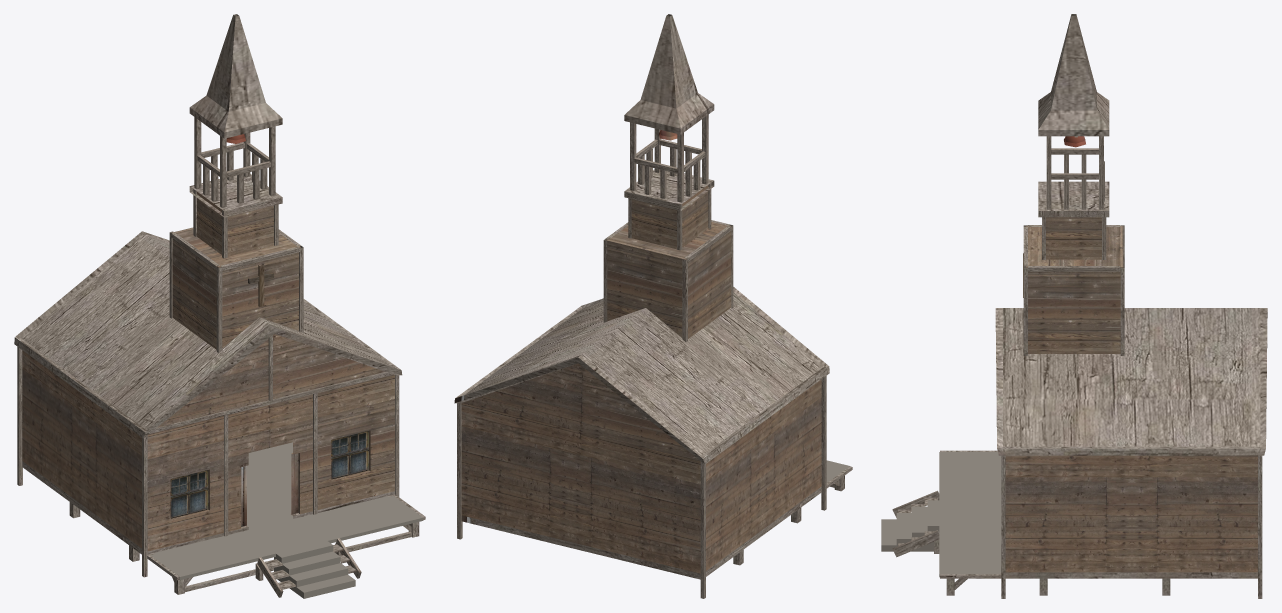
File: church.access-v2.lod0.glb
The picture shows the model from 3 angles, left to right: view 1: azimuth 30°, elevation 25°; view 2: azimuth 150°, elevation 25°; view 3: azimuth 270°, elevation 25°; orthographic projection. The views are drawn at different scales.
Parts seen in each view (by area): view 1: Object079_Material #30_0, Walkable floors and stairs; view 2: Object079_Material #30_0; view 3: Object079_Material #30_0, Walkable floors and stairs.
Part boxes in pixels (x1,y1,x2,y2): Object079_Material #30_0: [14, 14, 425, 597]; Walkable floors and stairs: [150, 442, 423, 598]; Object079_Material #30_0: [454, 14, 852, 598]; Object079_Material #30_0: [892, 14, 1267, 598]; Walkable floors and stairs: [881, 452, 1001, 577].
Size of the model in its own units: 8.52 by 16 by 10.69.
Materials: 2 (1 with a texture image).
